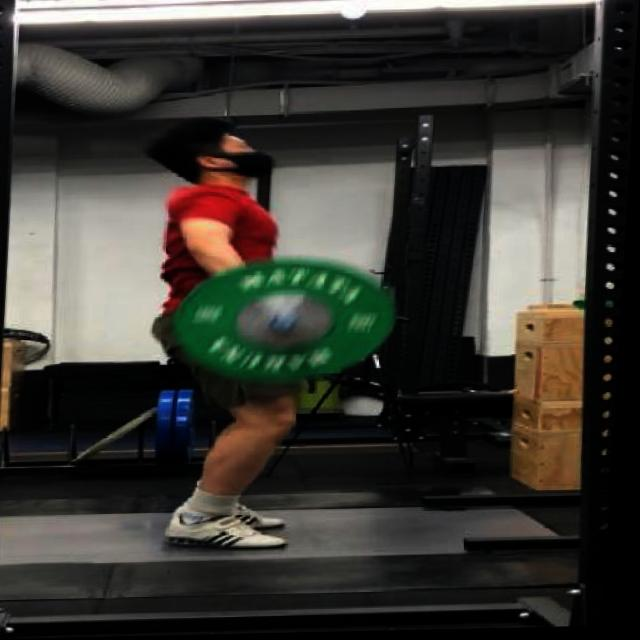barbell: (163, 254, 411, 396)
